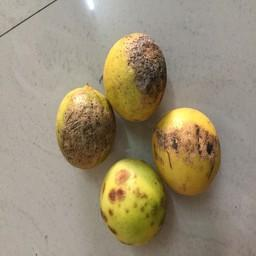Bad_lime: (95, 151, 164, 255), (157, 106, 221, 201), (103, 33, 166, 123), (58, 90, 114, 162)
